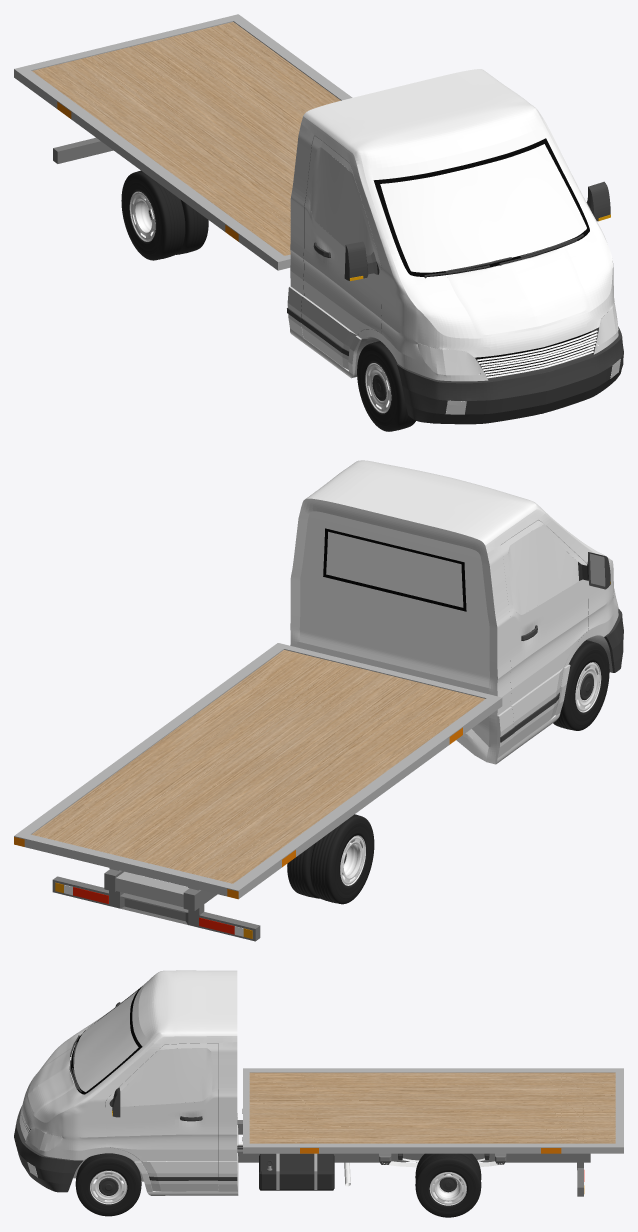
The model's file is moving_truck.fbx.
3 views of the same model, one above another, from view 1: azimuth 30°, elevation 25°; view 2: azimuth 150°, elevation 25°; view 3: azimuth 270°, elevation 25° (orthographic). The views are drawn at different scales.
Visible parts, largest first — view 1: body, wheel-back-right, wheel-front-right; view 2: body, wheel-back-right, wheel-front-right; view 3: body, wheel-back-left, wheel-front-left.
Boxes of the visible parts, x1=… form: body: x1=14, y1=14, x2=623, y2=424; wheel-back-right: x1=121, y1=170, x2=208, y2=260; wheel-front-right: x1=357, y1=341, x2=415, y2=431; body: x1=14, y1=460, x2=623, y2=941; wheel-back-right: x1=287, y1=814, x2=374, y2=904; wheel-front-right: x1=553, y1=640, x2=609, y2=730; body: x1=14, y1=970, x2=623, y2=1196; wheel-back-left: x1=415, y1=1153, x2=481, y2=1217; wheel-front-left: x1=75, y1=1153, x2=141, y2=1216.
Bounding box in the file's own units: 1.47 × 1.35 × 4.11.
53 materials, 2 textured.
